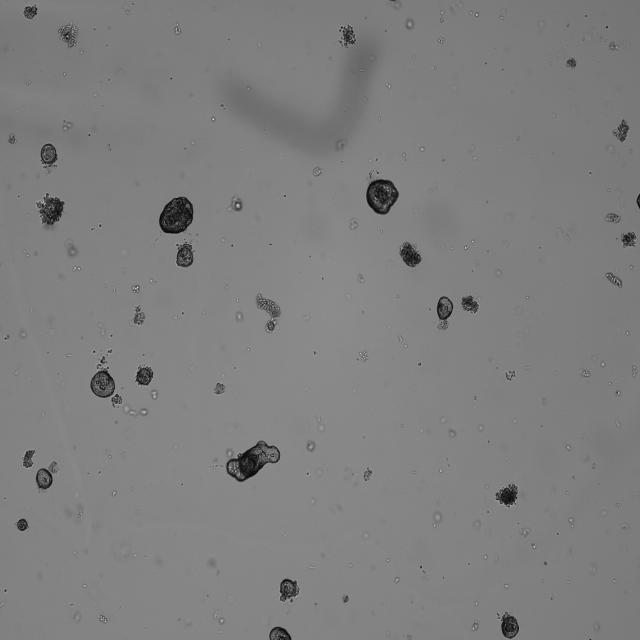alive: (223, 436, 282, 486), (152, 193, 200, 235), (362, 175, 401, 217), (88, 369, 117, 399), (499, 608, 522, 637), (433, 294, 456, 322), (172, 244, 198, 268), (277, 576, 301, 602), (36, 140, 59, 166), (34, 467, 55, 491), (265, 624, 295, 640), (135, 362, 153, 386), (15, 516, 31, 532)
dead: (33, 192, 70, 230), (254, 292, 285, 334), (397, 237, 426, 271), (494, 480, 523, 511), (55, 20, 80, 47), (337, 22, 360, 48), (459, 289, 481, 315)
